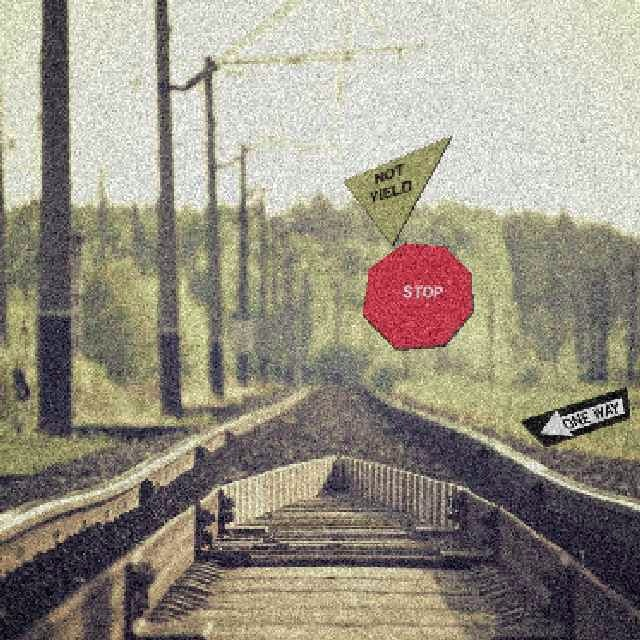NOT_YIELD: (341, 133, 452, 245)
ONE_WAY_ left: (517, 385, 629, 446)
STOP: (360, 241, 472, 349)
